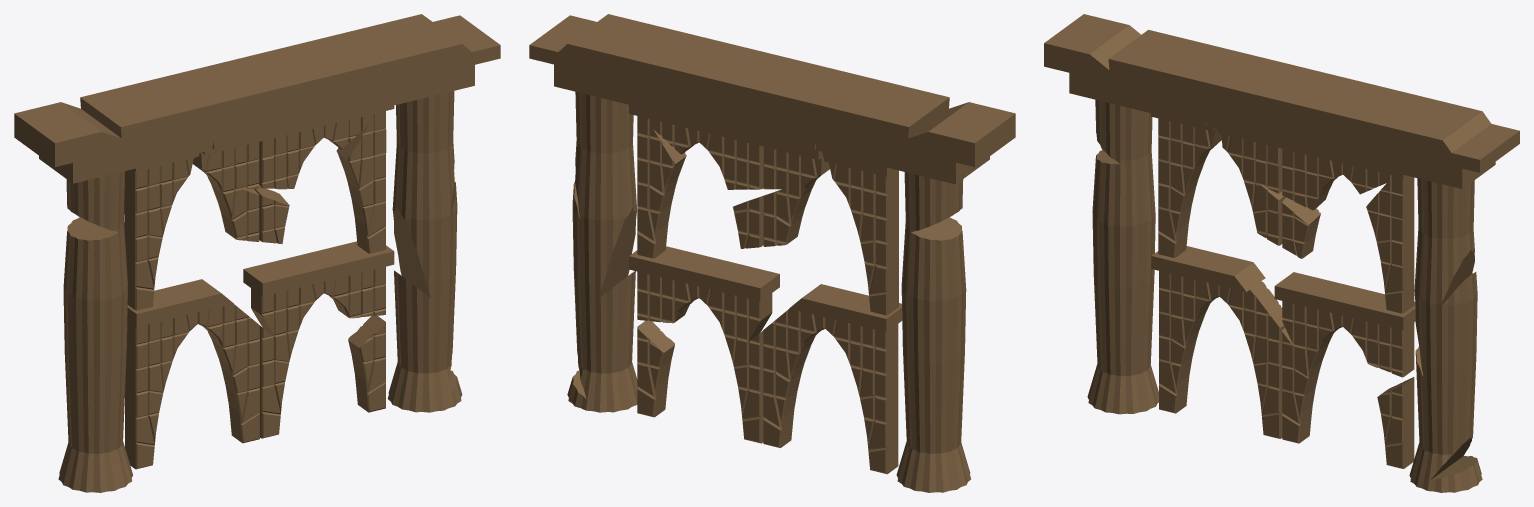
File: broken_arcs.fbx
3 renders of one model, left to right at view 1: azimuth 30°, elevation 25°; view 2: azimuth 150°, elevation 25°; view 3: azimuth 330°, elevation 25°, orthographic. The views are drawn at different scales.
Parts seen in each view (by area): view 1: broken_arcs; view 2: broken_arcs; view 3: broken_arcs.
Boxes of the visible parts, x1,y1,x2,y2 form: broken_arcs: (14,14,500,492); broken_arcs: (529,14,1015,492); broken_arcs: (1044,14,1519,492).
Bounding box in the file's own units: 9.55 × 7.45 × 1.51.
